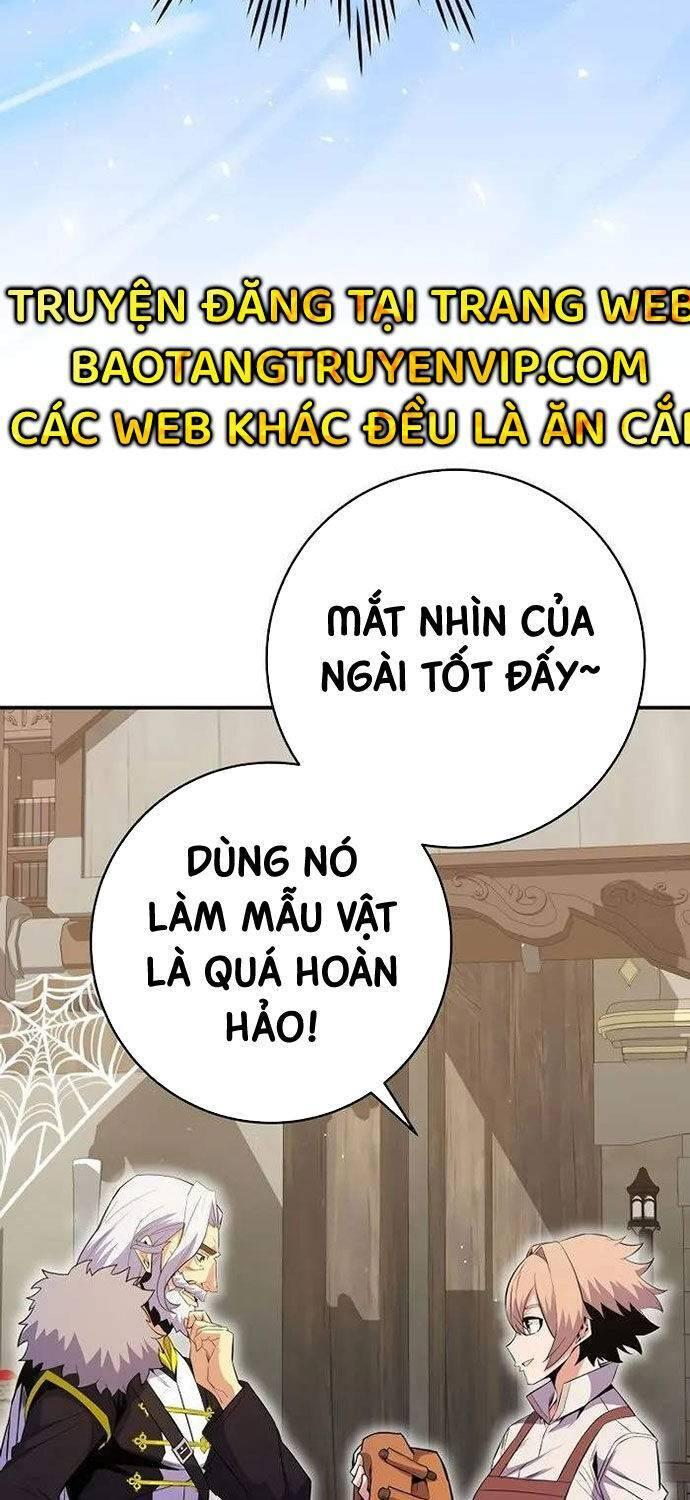quangcao: (0, 276, 690, 462)
